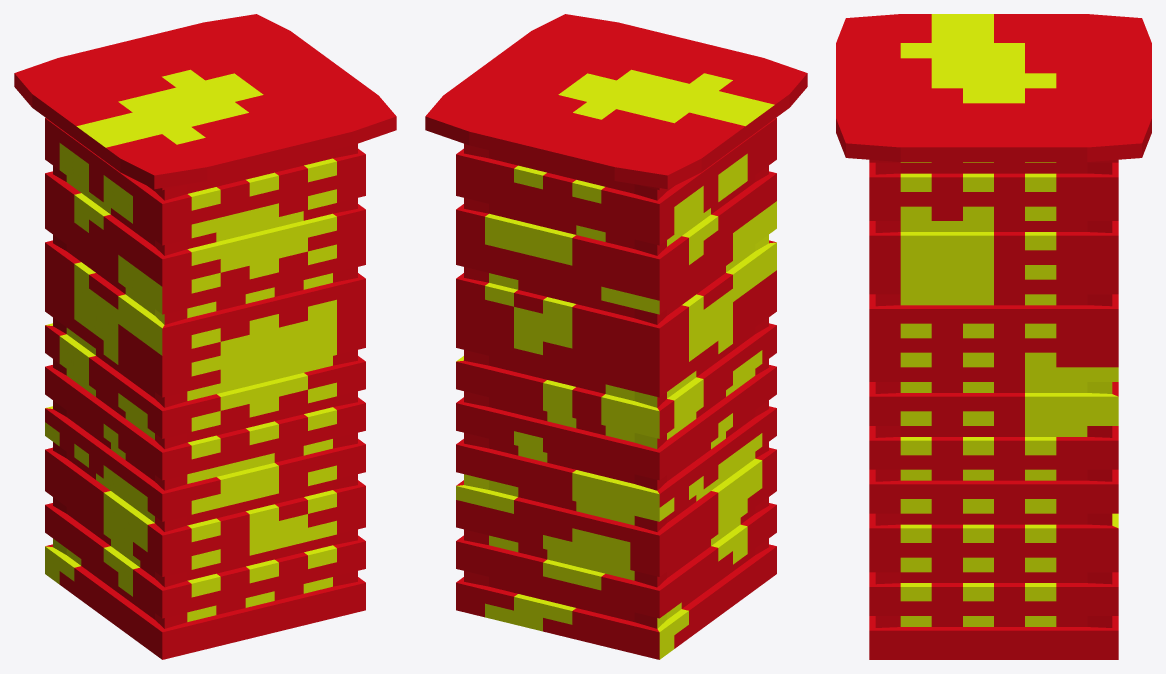
The model's file is building.glb.
3 views of the same model, side by side, from view 1: azimuth 30°, elevation 25°; view 2: azimuth 150°, elevation 25°; view 3: azimuth 270°, elevation 25° (orthographic). The views are drawn at different scales.
Visible parts, largest first — view 1: Cube; view 2: Cube; view 3: Cube.
Part boxes in pixels (x1,y1,x2,y2): Cube: (14, 14, 396, 659); Cube: (425, 14, 807, 659); Cube: (836, 14, 1151, 659).
Size of the model in its own units: 0.761 by 1.4 by 0.761.
